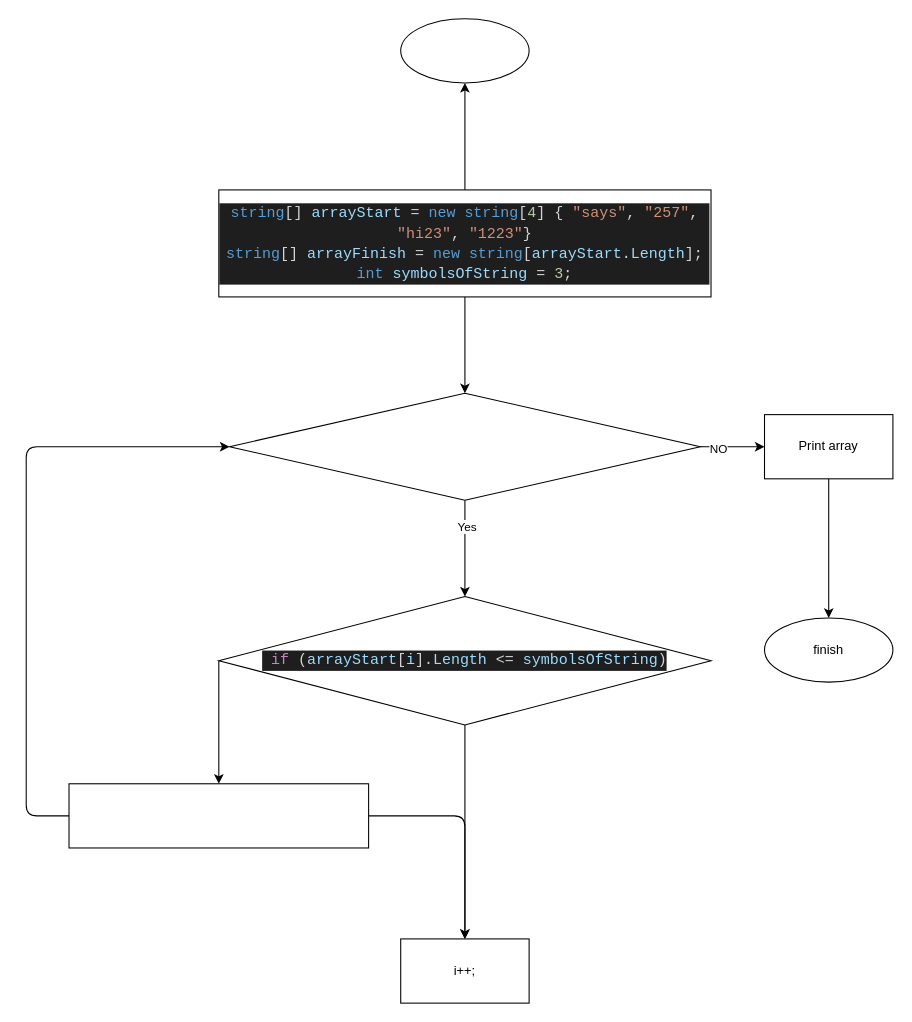
This 912x1022 diagram has some shape labels left out. Each missing label, with the centre of its shape:
arrayFinish [ index ] = arrayStart [ i ];: point (218, 815)
for ( int i = 0 ; i < arrayStart . Length ;): point (464, 446)
Start: point (464, 50)
